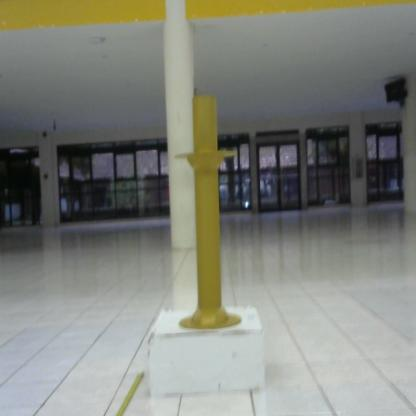pole: (167, 92, 249, 336)
